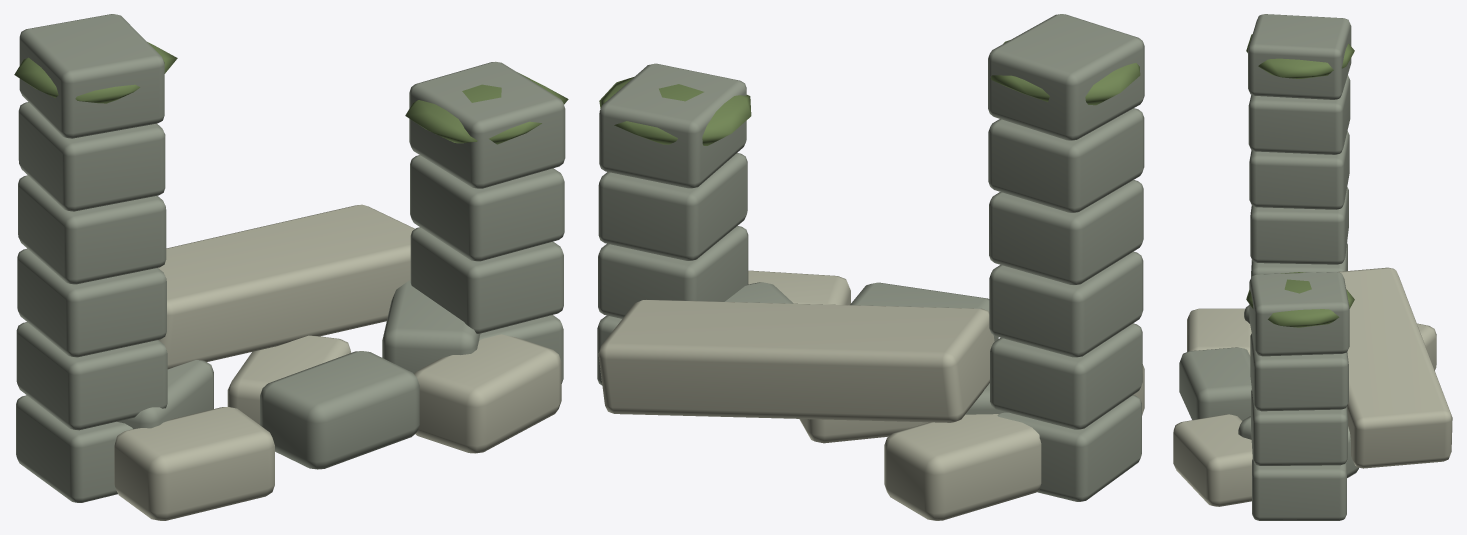
Rendered from ruins.glb.
3 views of the same model, side by side, from view 1: azimuth 30°, elevation 25°; view 2: azimuth 150°, elevation 25°; view 3: azimuth 270°, elevation 25° (orthographic). The views are drawn at different scales.
Parts seen in each view (by area): view 1: ruins_stone, ruins_stone_light, ruins_moss; view 2: ruins_stone, ruins_stone_light, ruins_moss; view 3: ruins_stone, ruins_stone_light, ruins_moss.
Boxes of the visible parts, bbox=[...] form: ruins_stone: bbox=[16, 14, 565, 502]; ruins_stone_light: bbox=[114, 204, 561, 520]; ruins_moss: bbox=[14, 42, 568, 144]; ruins_stone: bbox=[597, 14, 1144, 501]; ruins_stone_light: bbox=[598, 270, 1144, 520]; ruins_moss: bbox=[599, 40, 1140, 145]; ruins_stone: bbox=[1179, 14, 1358, 520]; ruins_stone_light: bbox=[1173, 267, 1452, 506]; ruins_moss: bbox=[1246, 34, 1354, 327].
Bounding box in the file's own units: 2.44 × 1.9 × 1.46.
